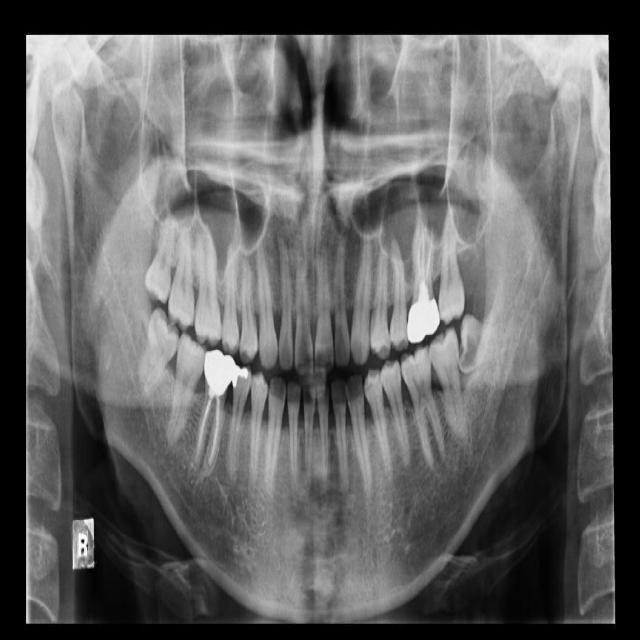3M ESPE Implant: (142, 213, 181, 303)
52: (407, 298, 440, 343), (205, 349, 234, 391), (230, 365, 253, 392)
73: (192, 381, 229, 472), (411, 210, 435, 309), (620, 604, 624, 616)
BioHorizons Implant: (438, 213, 464, 326)
Blue Sky Bio Implant: (426, 327, 469, 447)
Caries: (167, 225, 199, 332)
Implant: (165, 331, 210, 448), (452, 313, 513, 380)
Keystone Dental Implant: (134, 306, 186, 400)
